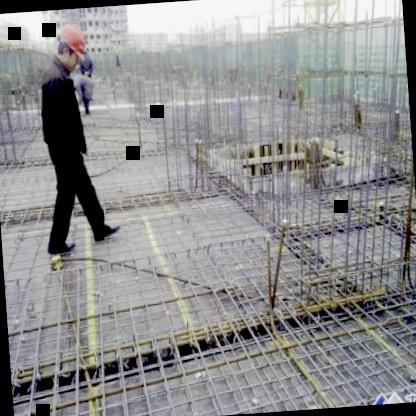helmet: (51, 17, 93, 74)
